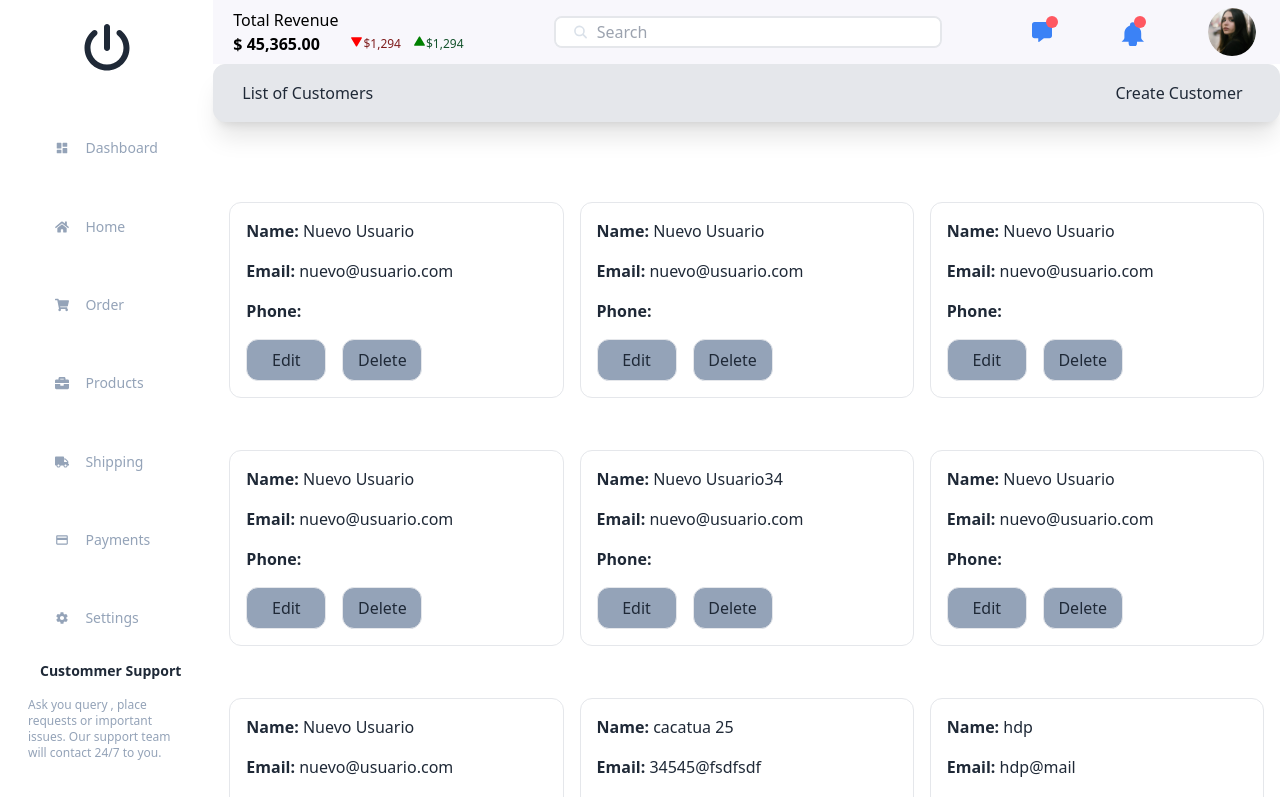
Testeando la app en general › Deveria renderizar el modal de editar user
Note: Encuentra el primer botón de editar (puedes ajustar el selector según tu estructura HTML)
Click the 1st button "Edit" at {"x": 286, "y": 360}, box [255, 348, 317, 372]
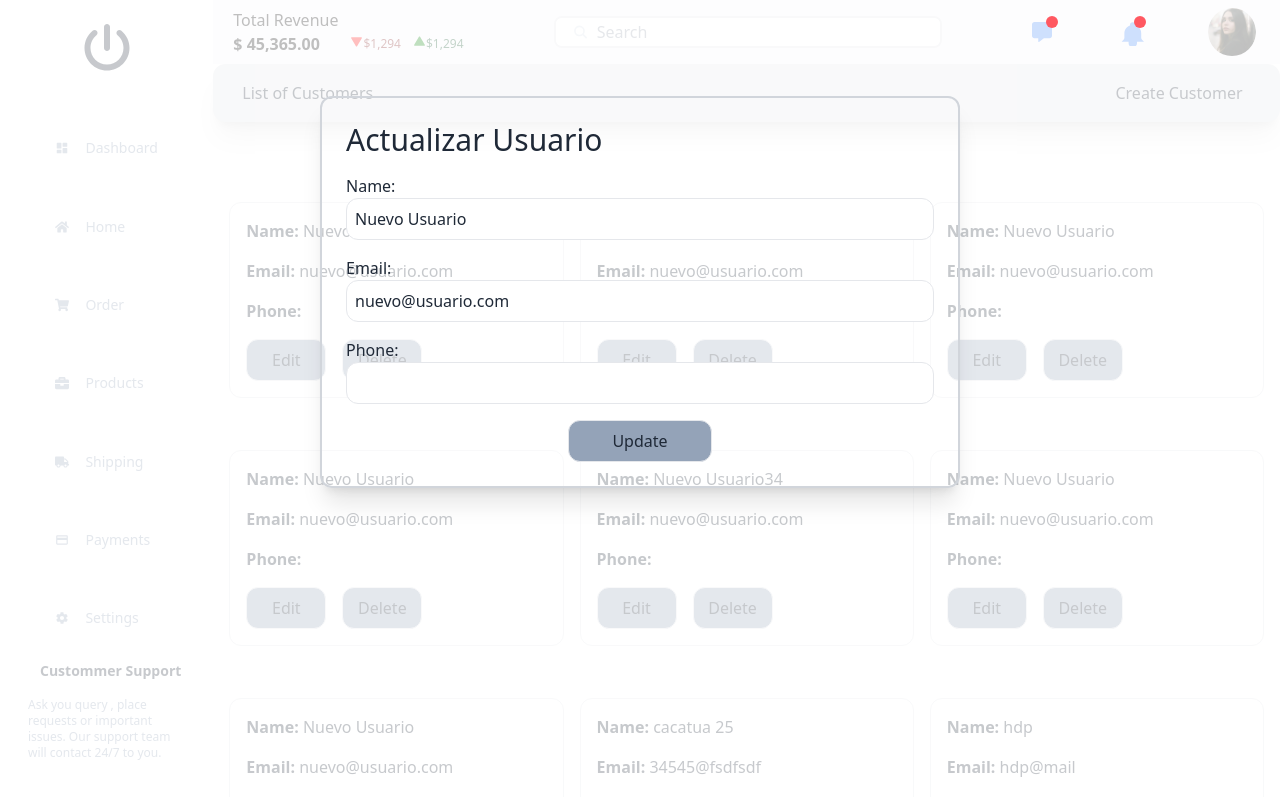
Expected: the form with test id "update-user-modal" is shown, [346, 174, 934, 462]
